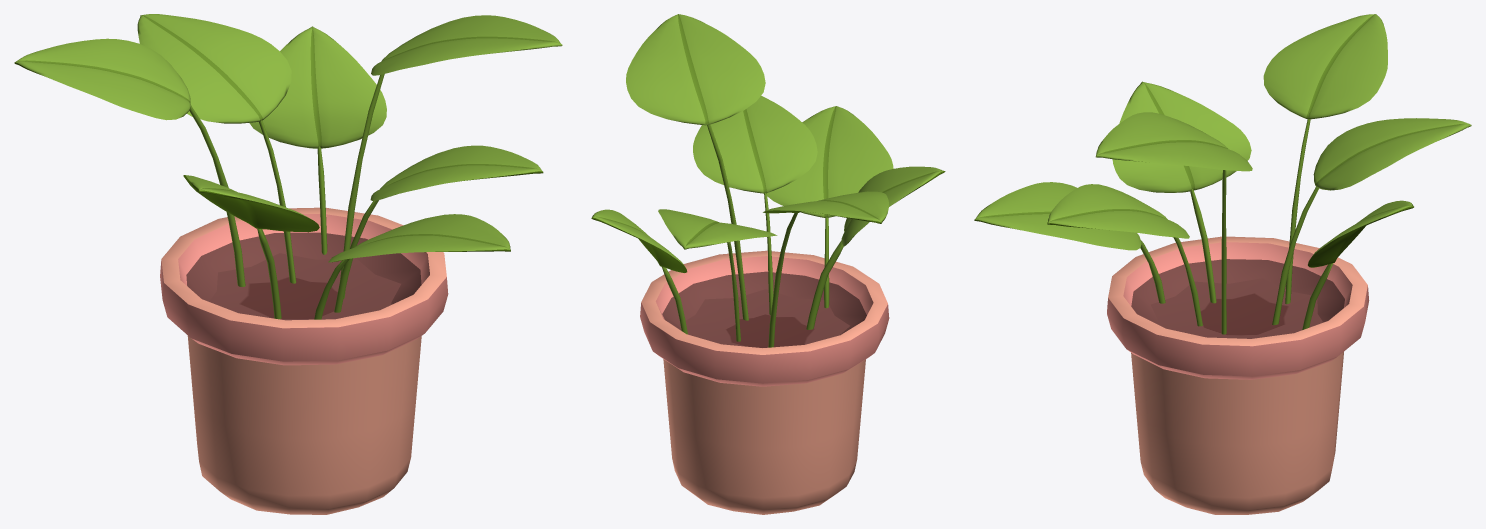
Rendered from 3d_Plant_2.fbx.
3 renders of one model, left to right at view 1: azimuth 30°, elevation 25°; view 2: azimuth 150°, elevation 25°; view 3: azimuth 270°, elevation 25°, orthographic. The views are drawn at different scales.
Visible parts, largest first — view 1: Plant 2; view 2: Plant 2; view 3: Plant 2.
Part boxes in pixels (x1,y1,x2,y2): Plant 2: (14,14,562,514); Plant 2: (591,14,945,514); Plant 2: (974,14,1471,514).
Bounding box in the file's own units: 0.4737 × 0.5122 × 0.5663.
